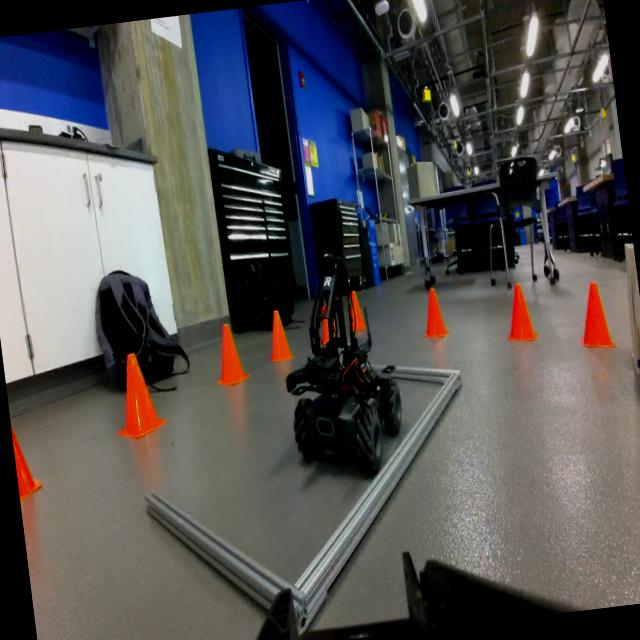cone: (104, 344, 170, 445), (571, 274, 621, 354), (208, 314, 250, 390), (499, 280, 542, 344), (261, 301, 297, 367), (416, 285, 452, 342)
metal barrier: (128, 347, 491, 640)
robot: (270, 242, 412, 482)
